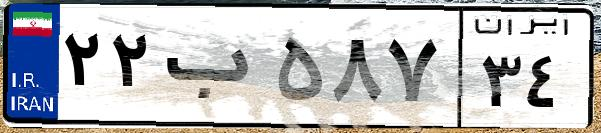2: (57, 26, 110, 100), (110, 28, 158, 98)
3: (475, 38, 525, 113)
4: (525, 38, 570, 115)
5: (270, 28, 330, 110)
7: (385, 28, 445, 110)
8: (330, 28, 385, 110)
ب: (158, 20, 270, 120)
